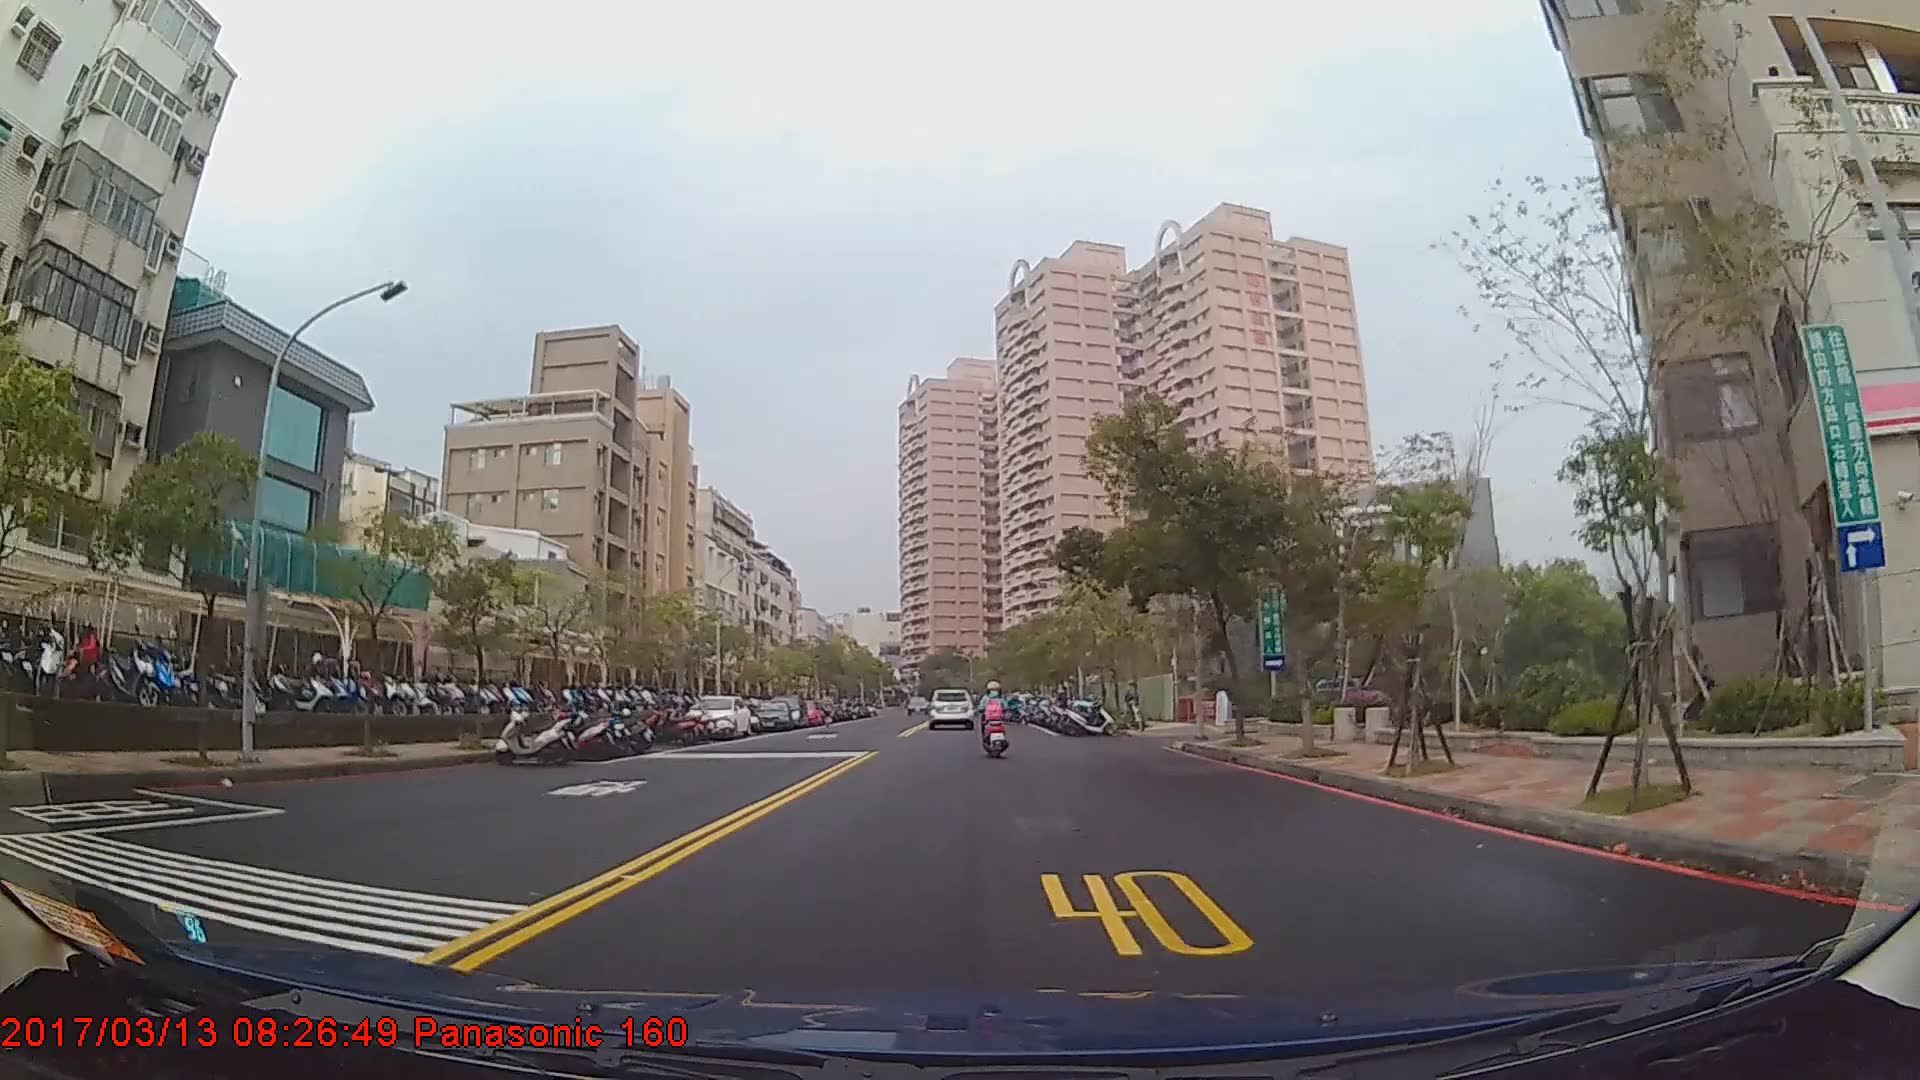pedestrian: (1123, 680, 1143, 725)
rider: (977, 679, 1009, 756)
vehicle: (687, 693, 752, 739), (924, 686, 974, 730), (747, 697, 794, 734)
